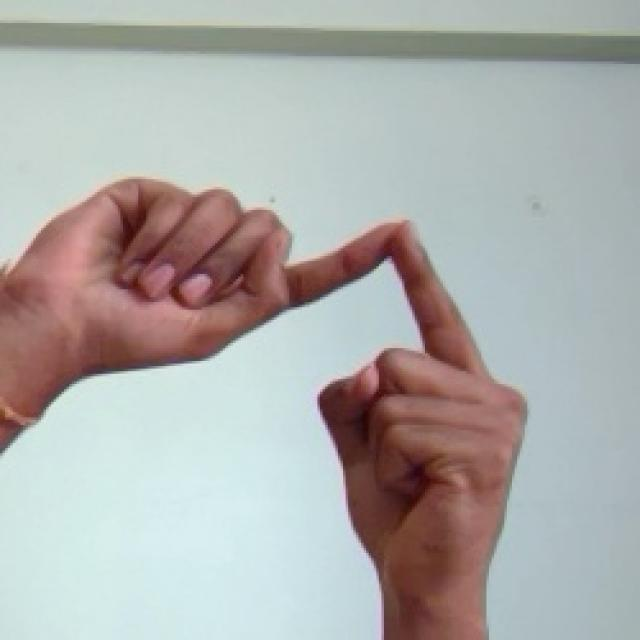Alphabet-E: (0, 179, 527, 639)
